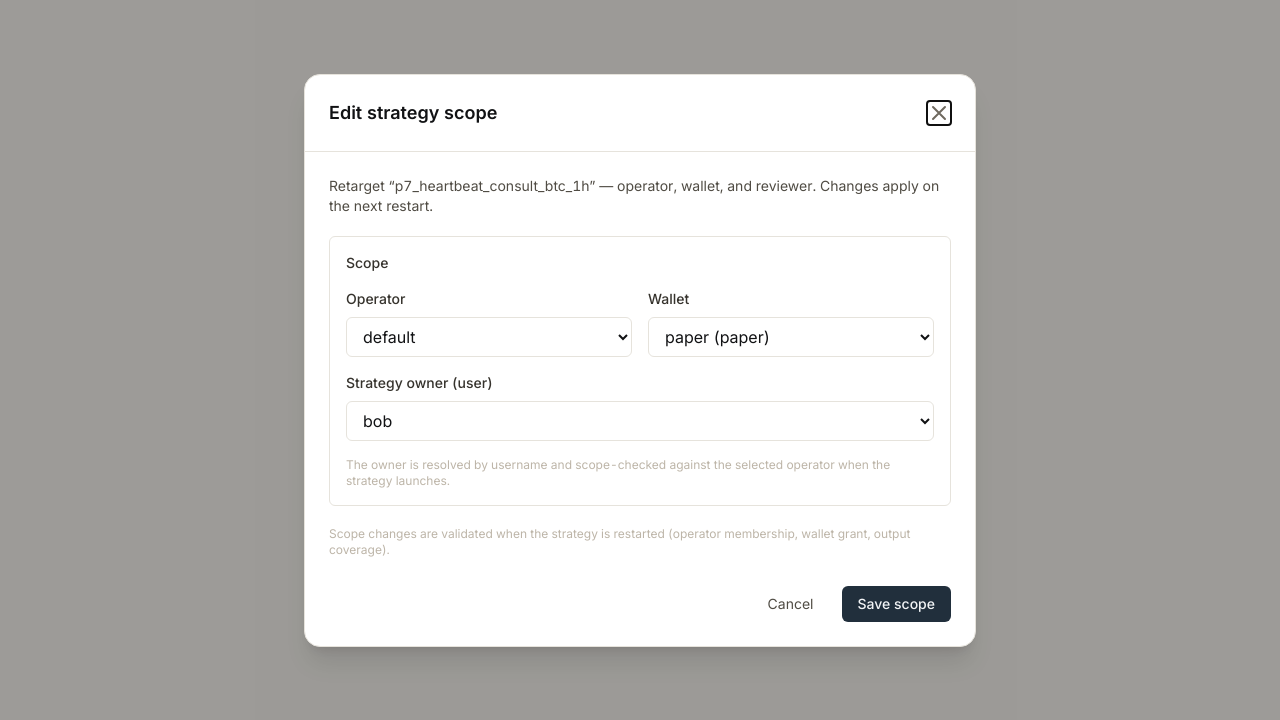
Test: StrategyScopeEditModal › saves the scope and shows the restart-required banner on success
Click the button "Save scope".
click(896, 604)  # box [842,586,951,622]
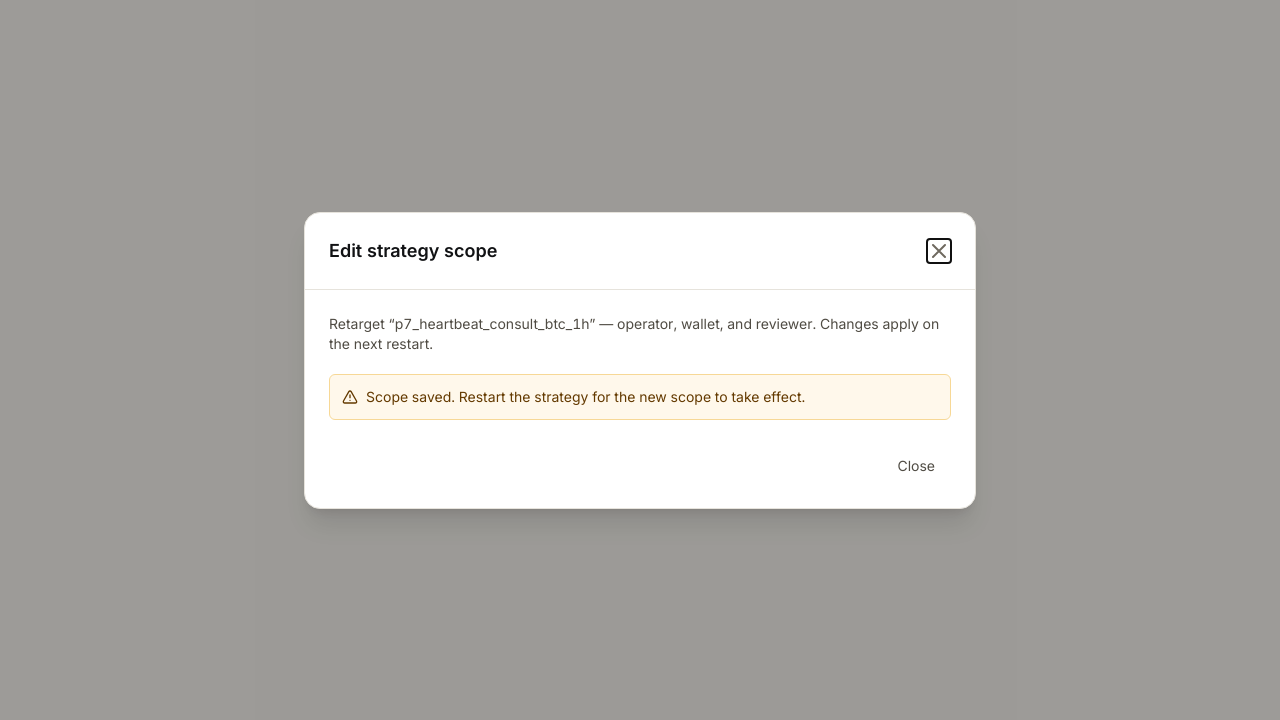
Now the text "Restart the strategy" is shown, box [366,388,805,404]
Now the button "Save scope" is gone
